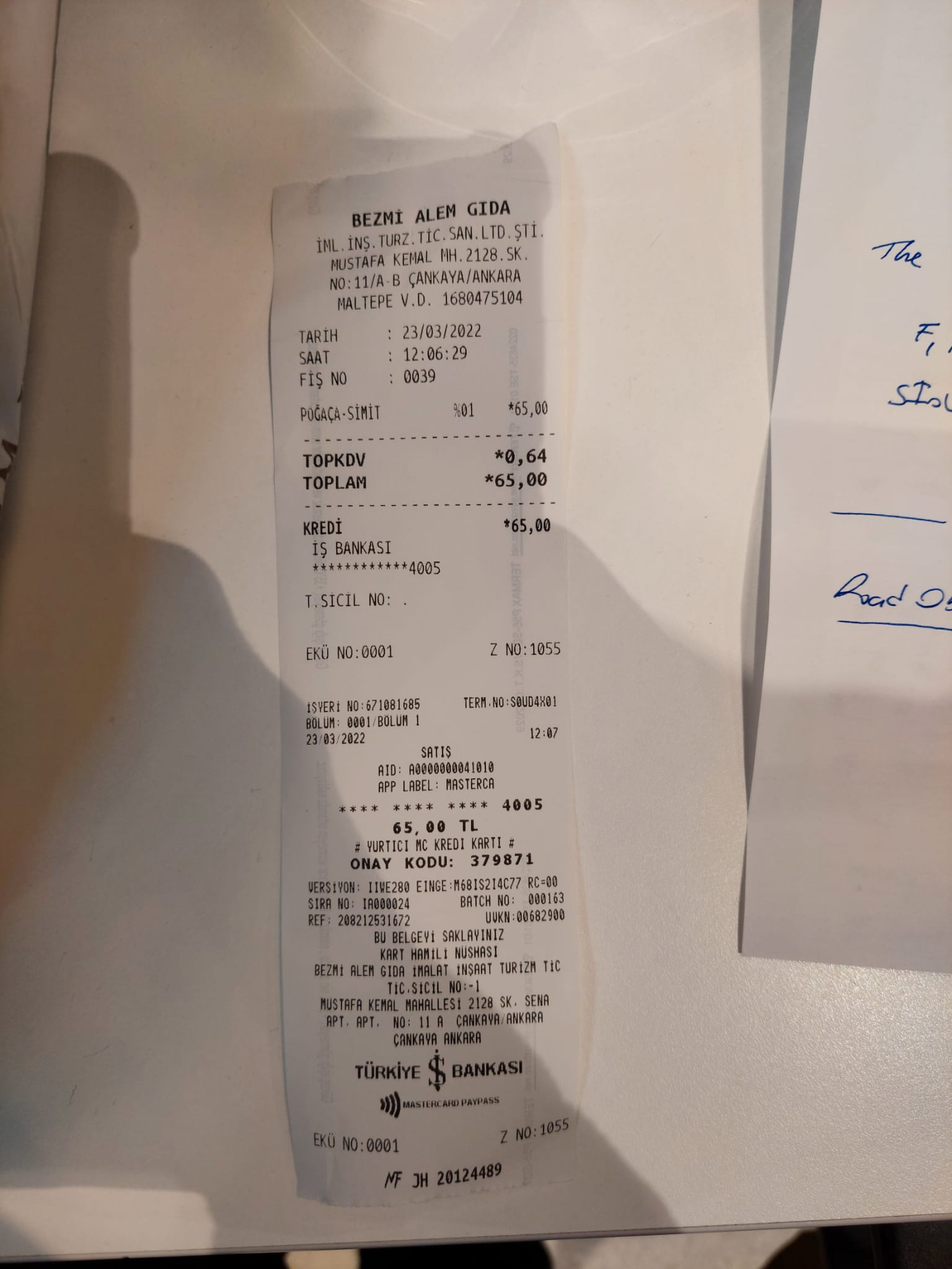date: (395, 317, 489, 345)
price: (489, 467, 557, 496)
workplace: (311, 195, 548, 291)
